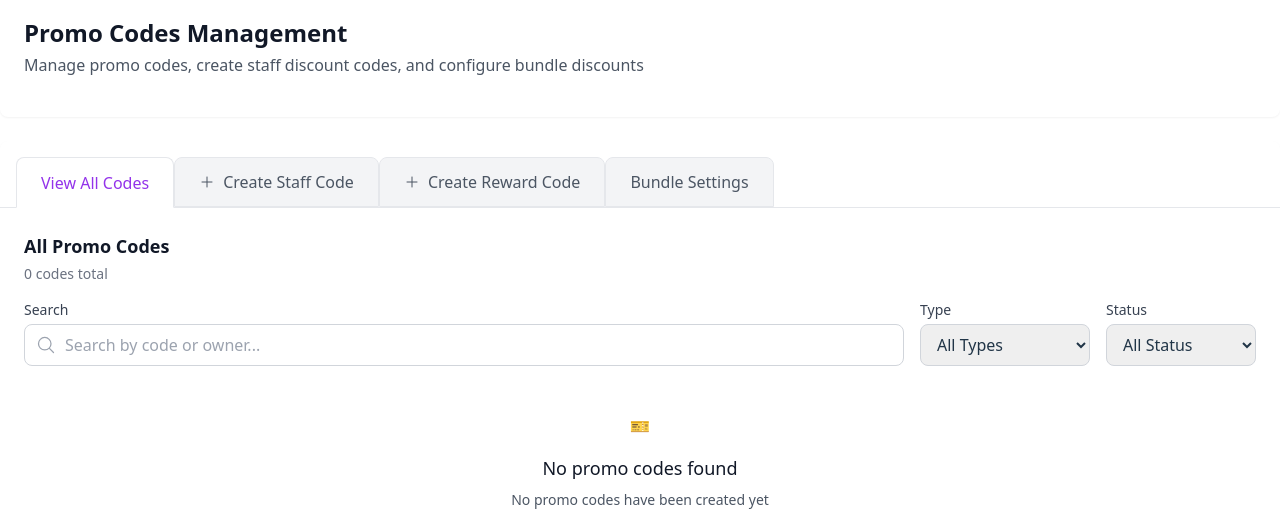
AdminPromoCodes - Staff Code Creation (Minimal Test) › should render and navigate to Create Staff Code tab
Expected: the heading "Promo Codes Management" is shown, 24,16 -> 347,49
Note: Click the tab
Click the button "Create Staff Code": (276, 182) 174,157 -> 379,207
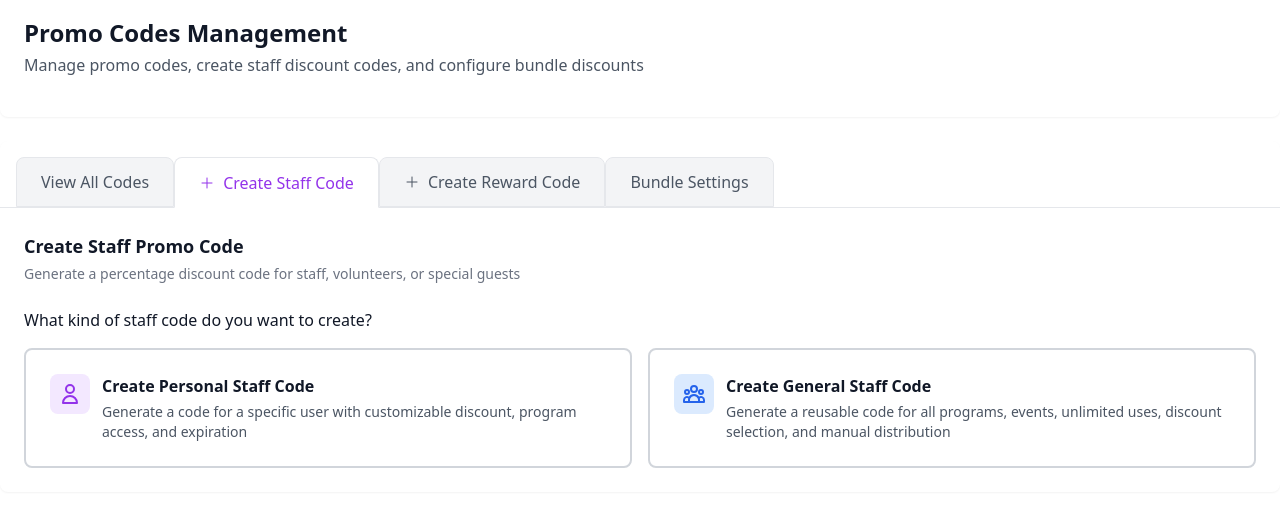
Now the button "Create Personal Staff Code" is shown, box 24,348 -> 632,468
Now the button "Create General Staff Code" is shown, box 648,348 -> 1256,468
